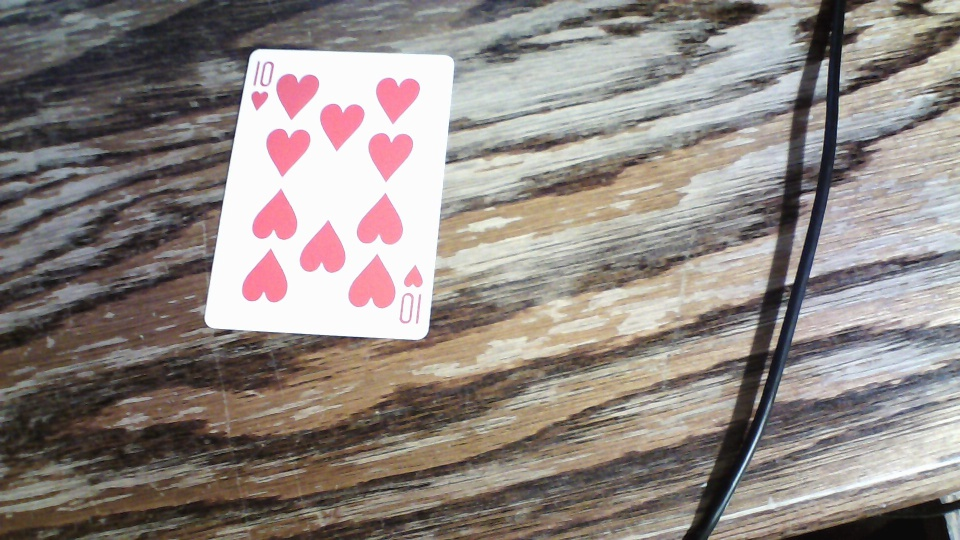ten: (202, 47, 456, 344)
